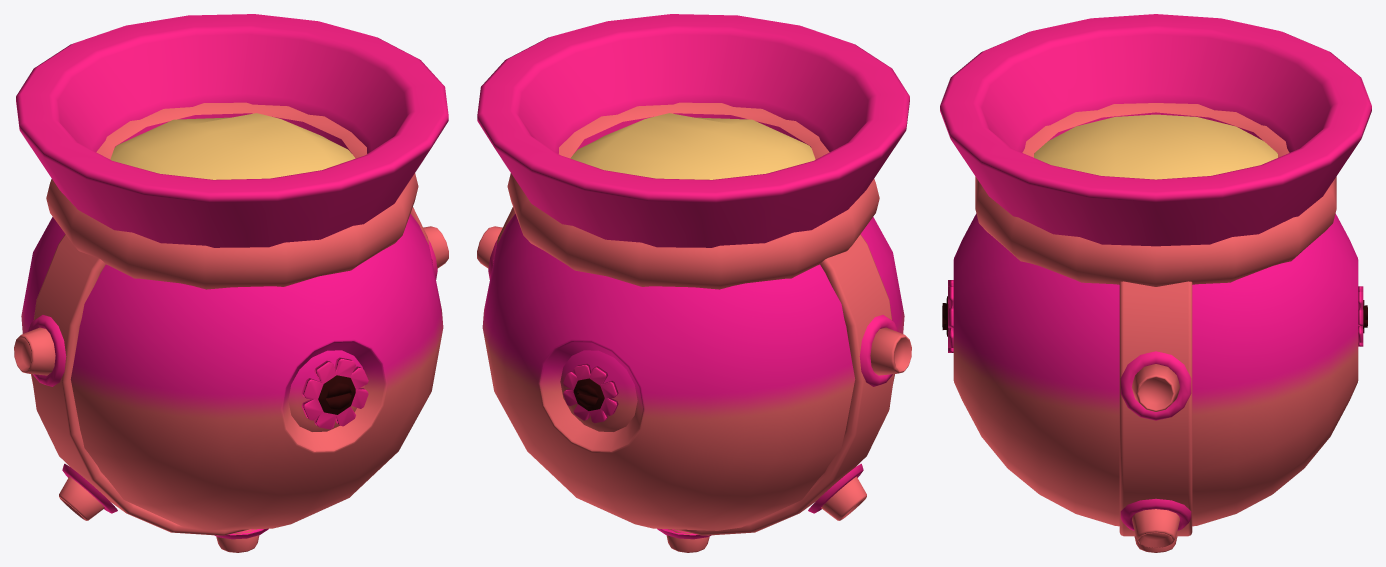
Rendered from MEC0110037.fbx.
3 renders of one model, left to right at view 1: azimuth 30°, elevation 25°; view 2: azimuth 150°, elevation 25°; view 3: azimuth 270°, elevation 25°, orthographic.
Visible parts, largest first — view 1: smMEC0110037; view 2: smMEC0110037; view 3: smMEC0110037.
Part boxes in pixels (left/top/right/bottom): smMEC0110037: left=14, top=14, right=448, bottom=552; smMEC0110037: left=477, top=14, right=911, bottom=552; smMEC0110037: left=940, top=14, right=1371, bottom=552.
Bounding box in the file's own units: 129 × 130 × 116.
Materials: 1 (1 with a texture image).
